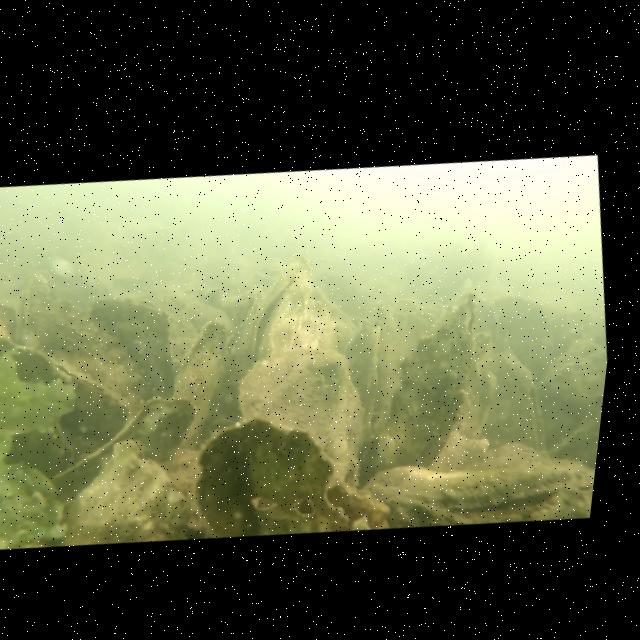Oyster-Closed: (344, 280, 501, 481), (46, 423, 203, 559), (0, 326, 141, 455), (78, 285, 189, 414), (472, 341, 560, 463), (520, 342, 608, 455), (0, 265, 71, 361), (220, 283, 273, 353)
Oyster-Indeterminate: (177, 399, 361, 555), (223, 334, 376, 508), (37, 380, 209, 515), (36, 284, 163, 415), (160, 314, 246, 449)
Oyster-Open: (352, 429, 597, 553), (215, 246, 335, 403)
